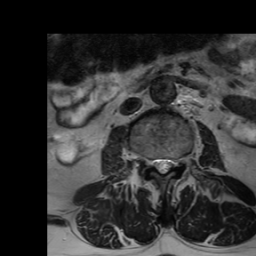CCS_stenosis: (159, 151, 166, 180)
LFS_normal: (173, 151, 181, 175)
LLS_normal: (166, 151, 173, 176)
RFS_normal: (145, 151, 153, 173)
RLS_normal: (153, 152, 159, 175)
